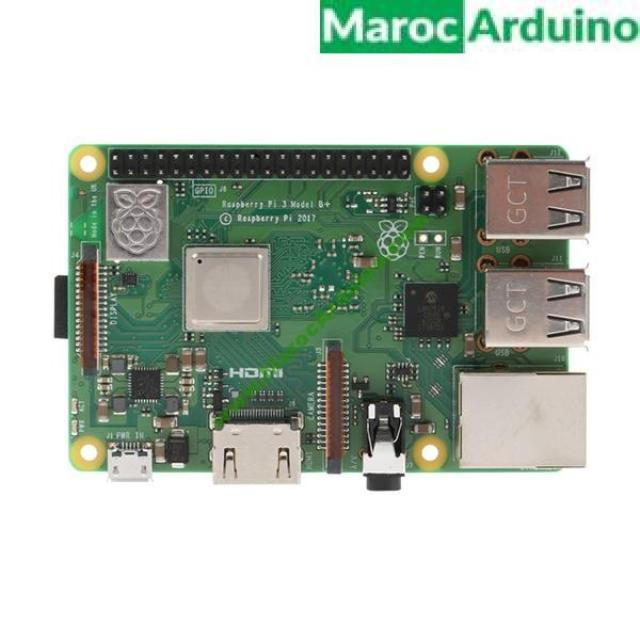Raspberry Pi 3 B-: (56, 146, 590, 491)
